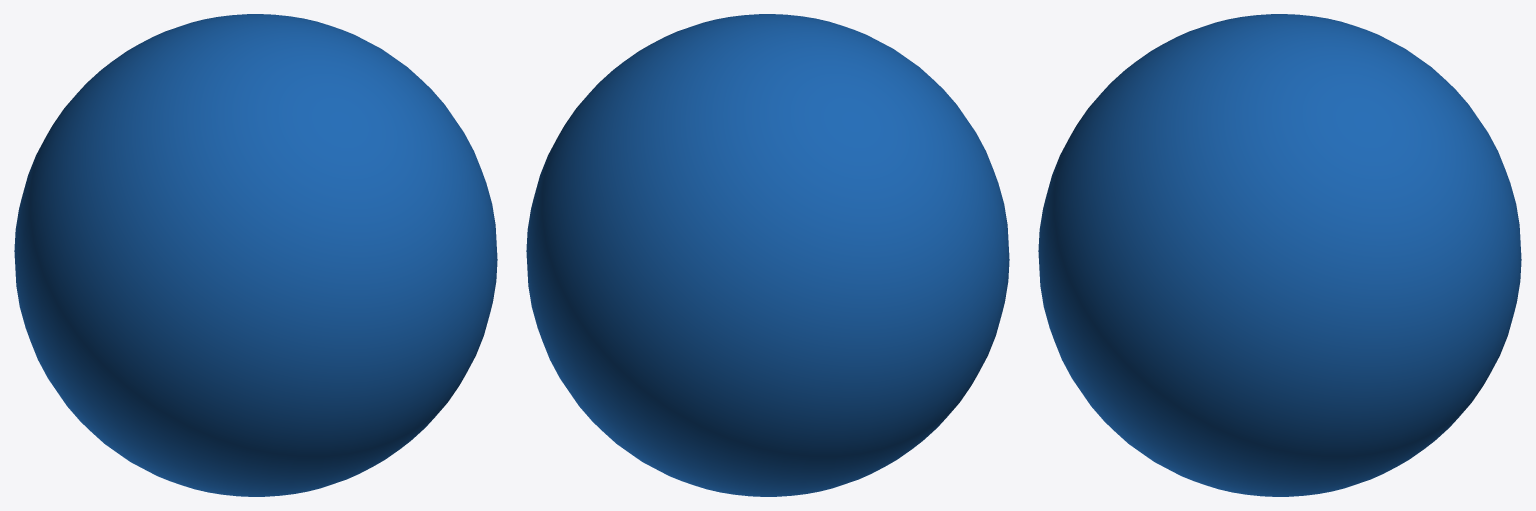
The picture shows the model from 3 angles, left to right: view 1: azimuth 30°, elevation 25°; view 2: azimuth 150°, elevation 25°; view 3: azimuth 270°, elevation 25°; orthographic projection.
Parts seen in each view (by area): view 1: sphere; view 2: sphere; view 3: sphere.
Part boxes in pixels (x1,y1,x2,y2): sphere: (14,14,497,496); sphere: (526,14,1009,496); sphere: (1038,14,1521,496).
Bounding box in the file's own units: 2 × 2 × 2.
